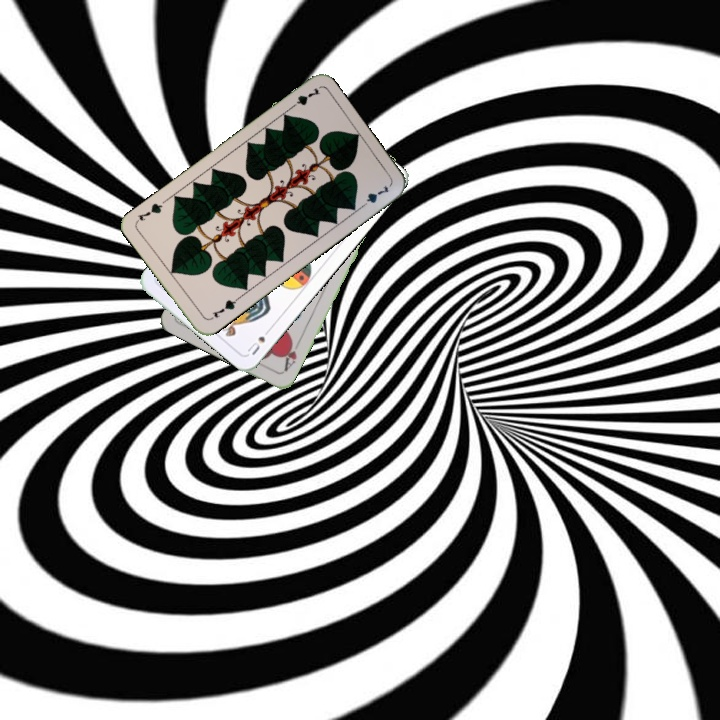G7: (285, 83, 323, 113), (206, 294, 241, 322)
HA: (279, 335, 303, 374)
SU: (243, 323, 275, 358)
